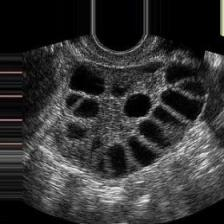pcos: (34, 50, 219, 190)
